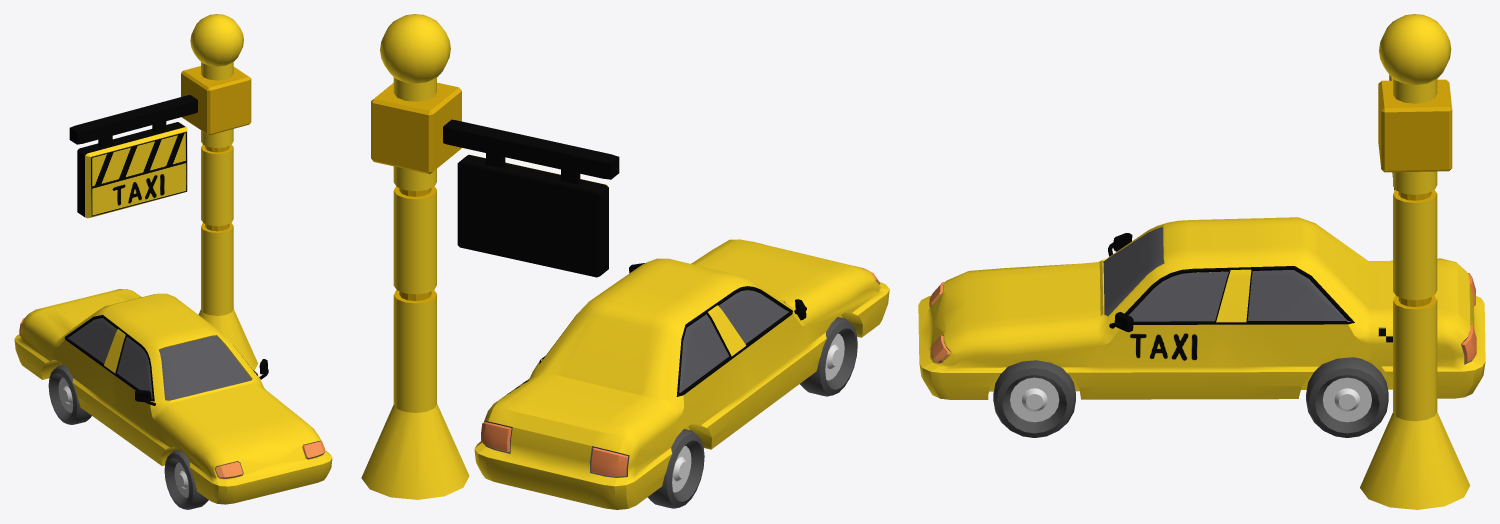
File: taxi.fbx
The picture shows the model from 3 angles, left to right: view 1: azimuth 30°, elevation 25°; view 2: azimuth 150°, elevation 25°; view 3: azimuth 270°, elevation 25°; orthographic projection. The views are drawn at different scales.
Parts seen in each view (by area): view 1: body, taxi_station, group5group4pCylinder207, group5group4pCylinder206; view 2: body, taxi_station, group5group4pCylinder206, group5group4pCylinder207; view 3: body, taxi_station, group5group4pCylinder205, group5group4pCylinder204.
Part boxes in pixels (x1,y1,x2,y2): body: (14,289,332,504); taxi_station: (69,14,257,370); group5group4pCylinder207: (164,449,208,509); group5group4pCylinder206: (48,365,91,424); body: (474,239,889,509); taxi_station: (361,14,619,499); group5group4pCylinder206: (647,429,704,508); group5group4pCylinder207: (800,317,857,396); body: (918,217,1485,399); taxi_station: (1360,14,1470,509); group5group4pCylinder205: (1306,357,1388,437); group5group4pCylinder204: (993,360,1075,437).
Bounding box in the file's own units: 56.68 × 84.09 × 92.1.
Materials: 1 (1 with a texture image).
